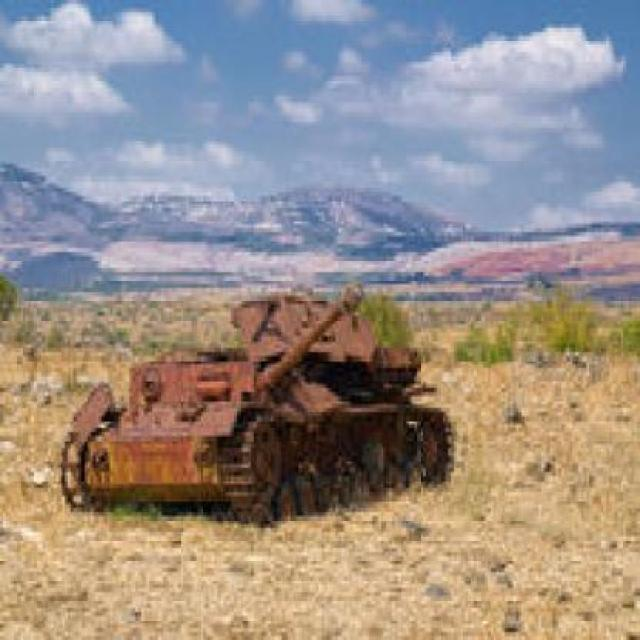corrosion: (61, 291, 456, 518)
